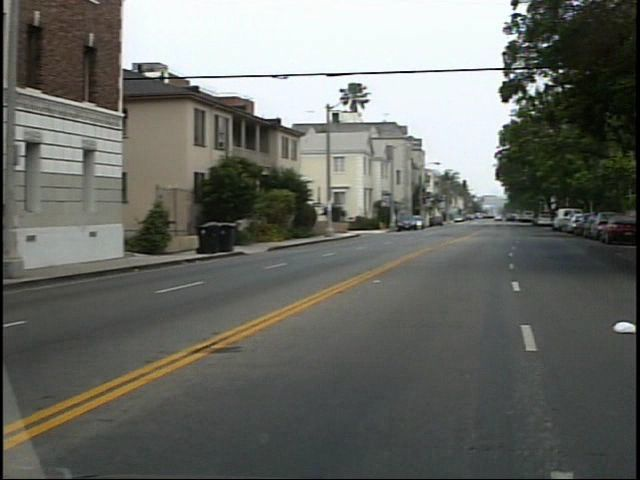person: (2, 199, 37, 280)
